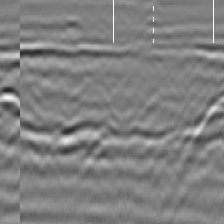Utility: (176, 88, 224, 177)
